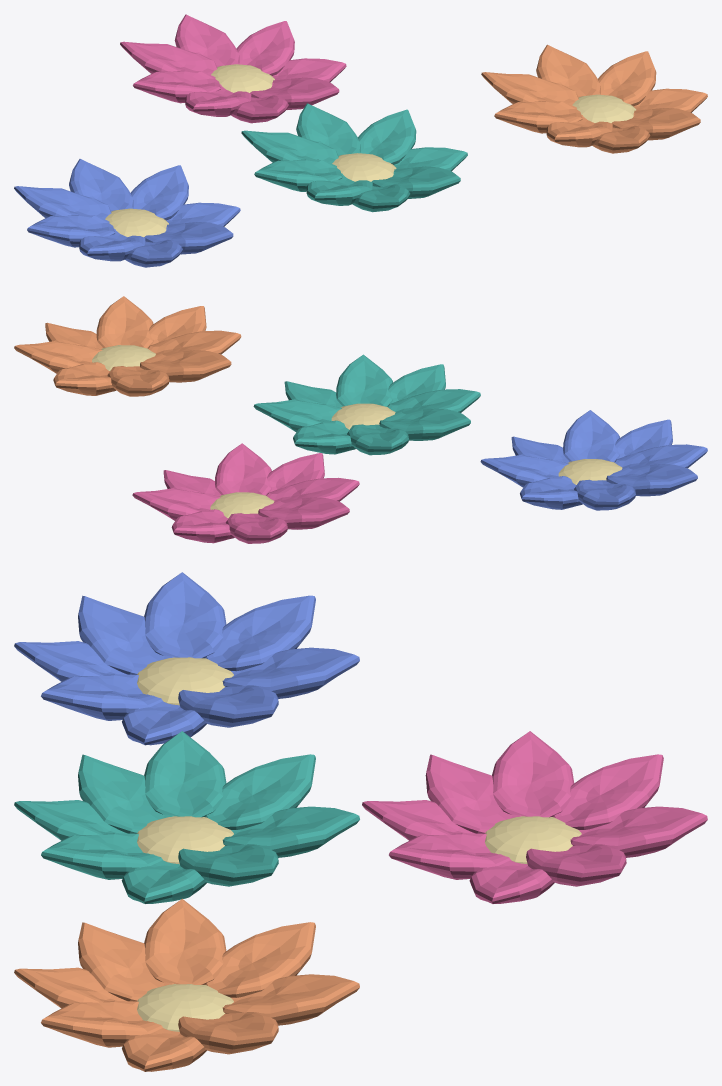
Rendered from Blumen.fbx.
3 views of the same model, one above another, from view 1: azimuth 30°, elevation 25°; view 2: azimuth 150°, elevation 25°; view 3: azimuth 270°, elevation 25° (orthographic). The views are drawn at different scales.
Parts seen in each view (by area): view 1: Turkis, Blau, Orange, Pink; view 2: Orange, Blau, Turkis, Pink; view 3: Orange, Pink, Turkis, Blau.
Boxes of the visible parts, box(x1,y1,x2,y2) form: Turkis: box(241, 103, 467, 212); Blau: box(14, 159, 240, 267); Orange: box(481, 44, 707, 153); Pink: box(120, 14, 346, 123); Orange: box(14, 296, 241, 396); Blau: box(480, 410, 707, 510); Turkis: box(253, 354, 480, 455); Pink: box(132, 443, 359, 543); Orange: box(14, 898, 359, 1071); Pink: box(362, 731, 707, 903); Turkis: box(14, 731, 359, 903); Blau: box(14, 572, 359, 745).
Bounding box in the file's own units: 2203 × 132 × 1385.
